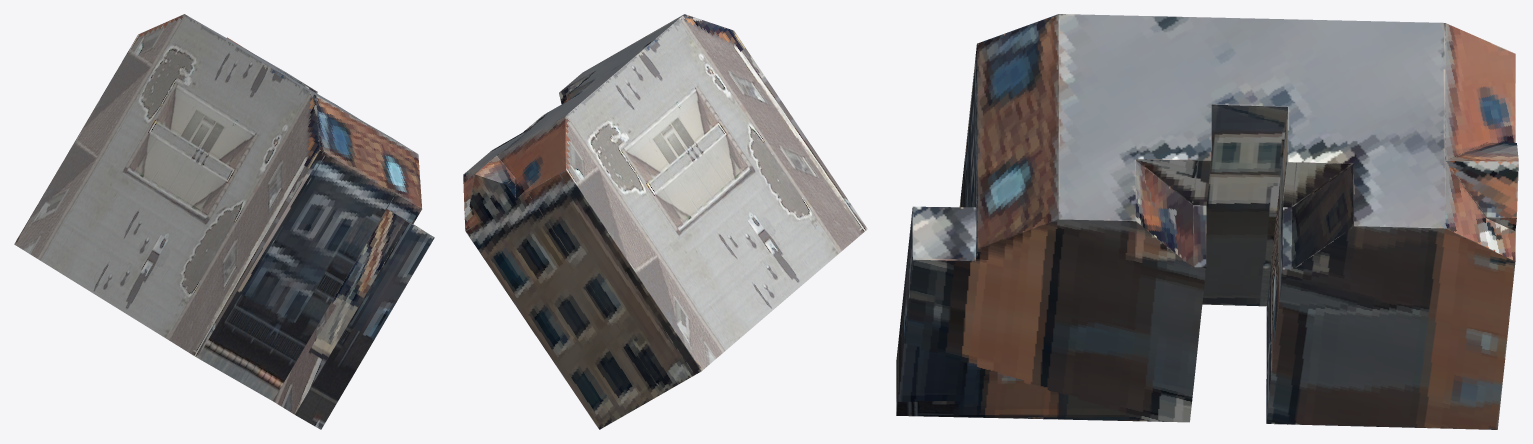
3 views of the same model, side by side, from view 1: azimuth 30°, elevation 25°; view 2: azimuth 150°, elevation 25°; view 3: azimuth 270°, elevation 25° (orthographic). The views are drawn at different scales.
Parts seen in each view (by area): view 1: BAG_0599100000670799 (×2); view 2: BAG_0599100000670799 (×2); view 3: BAG_0599100000670799 (×5).
Part boxes in pixels (x1,y1,x2,y2): BAG_0599100000670799 (×2): [14, 14, 434, 429]; BAG_0599100000670799 (×2): [463, 14, 867, 429]; BAG_0599100000670799 (×5): [896, 14, 1518, 429].
Size of the model in its own units: 13.55 by 14.75 by 18.13.
Materials: 1 (1 with a texture image).
